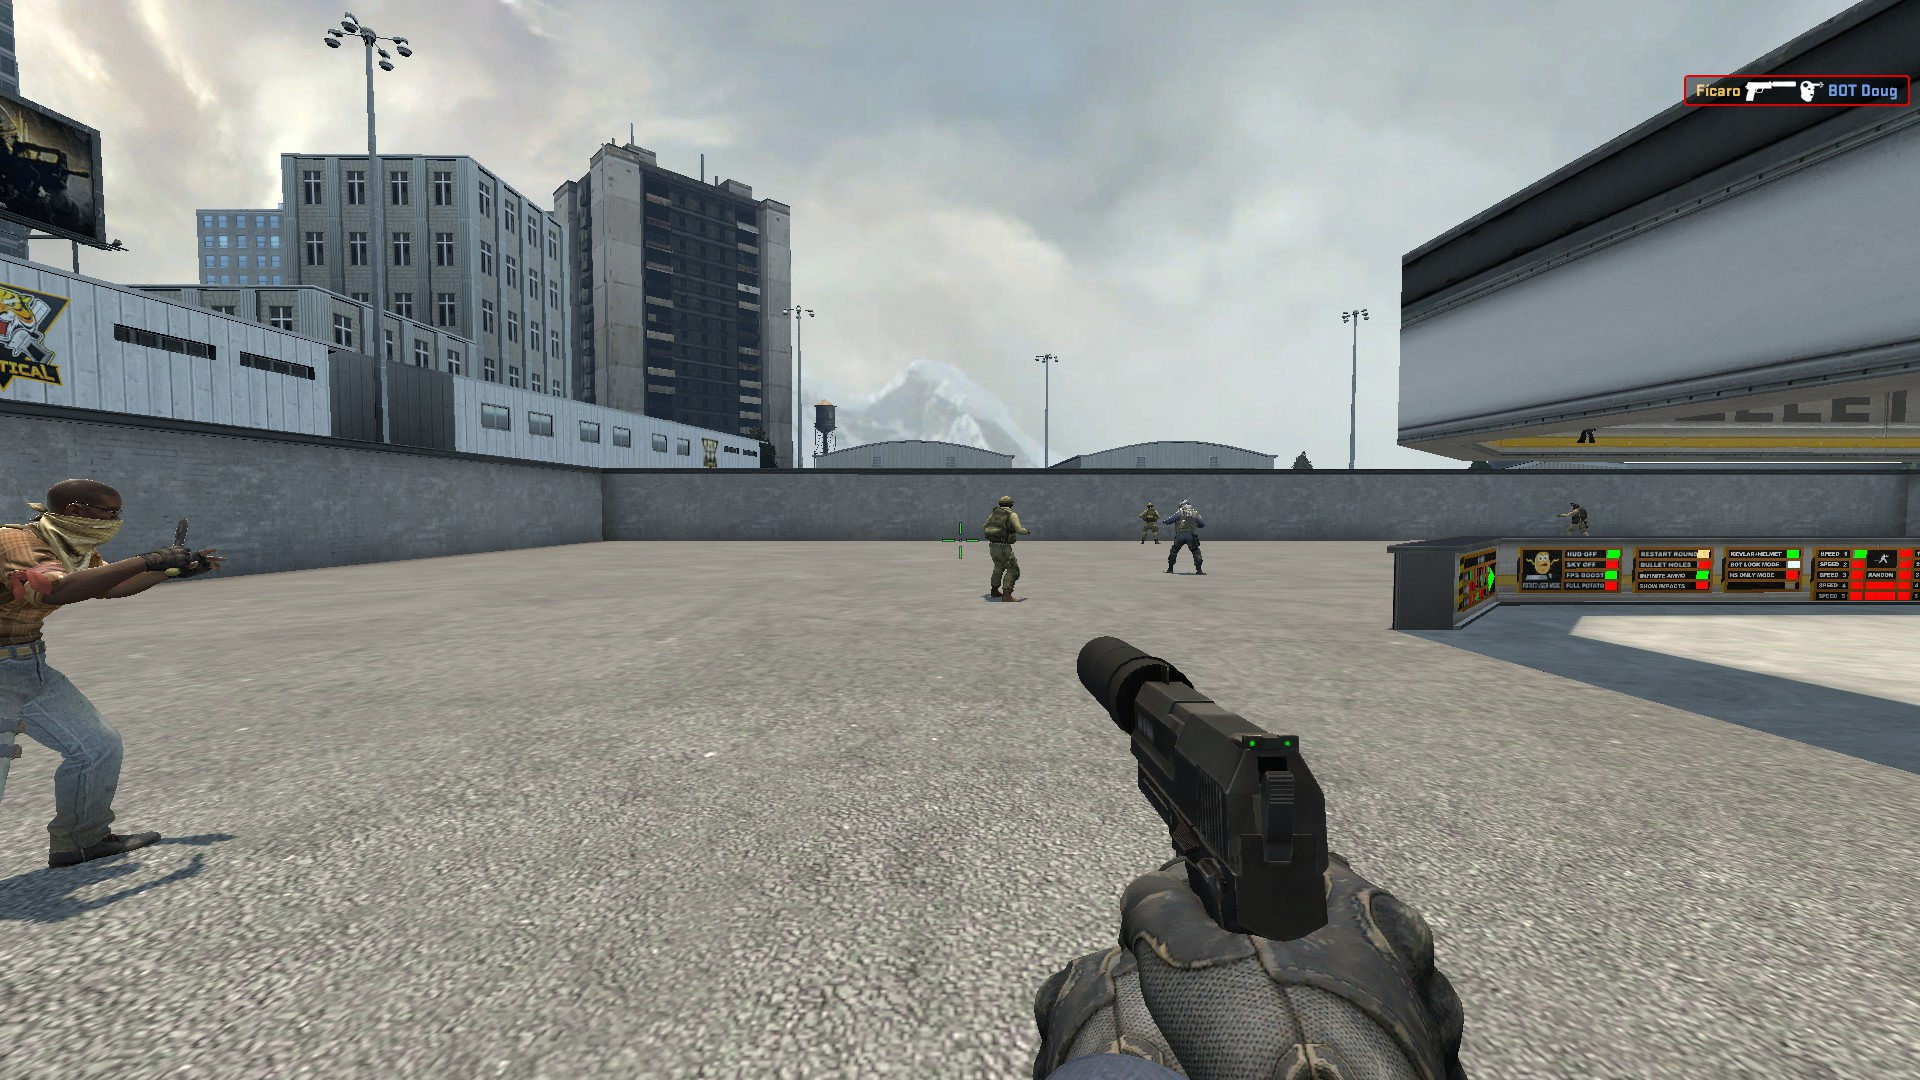tr: (1, 474, 227, 870)
tr head: (27, 475, 125, 552)
